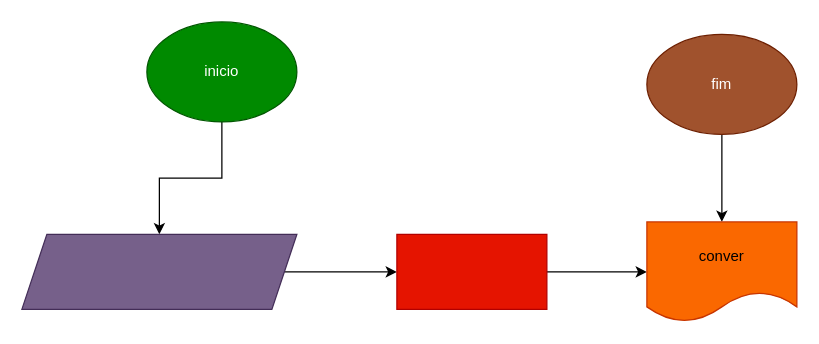
Some shapes in this 819 by 344 pixel diagram are drawn without their labels. Each missing label, with the centre of its shape:
conver<-cotaçao_dolar/valor: point 471,271
cotaçao_dolar,valor,conver: point 159,271
